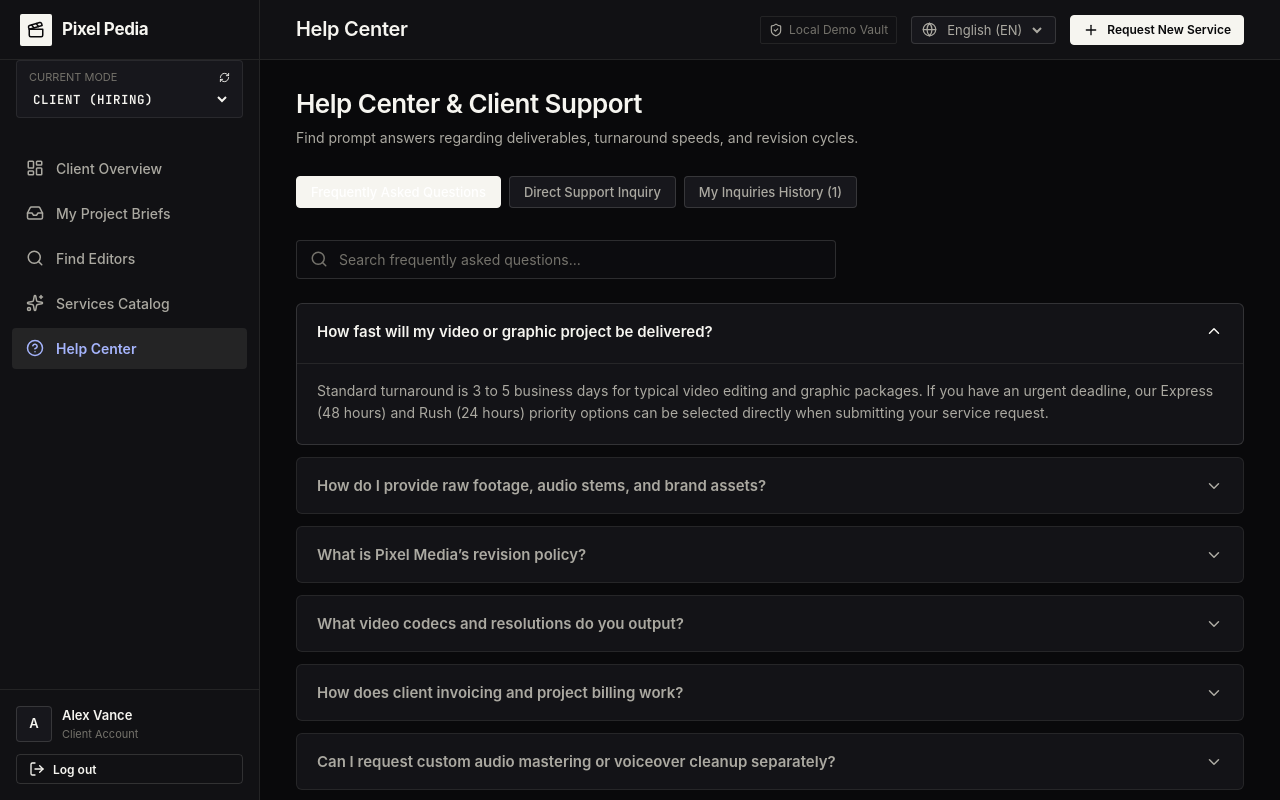
Test: Client Dashboard Features & Components › allows client to submit a support ticket in Help Center
The image size is (1280, 800).
// Switch to direct contact tab
Click the button "Direct Support Inquiry".
click(592, 192)  # box x1=509 y1=176 x2=676 y2=208
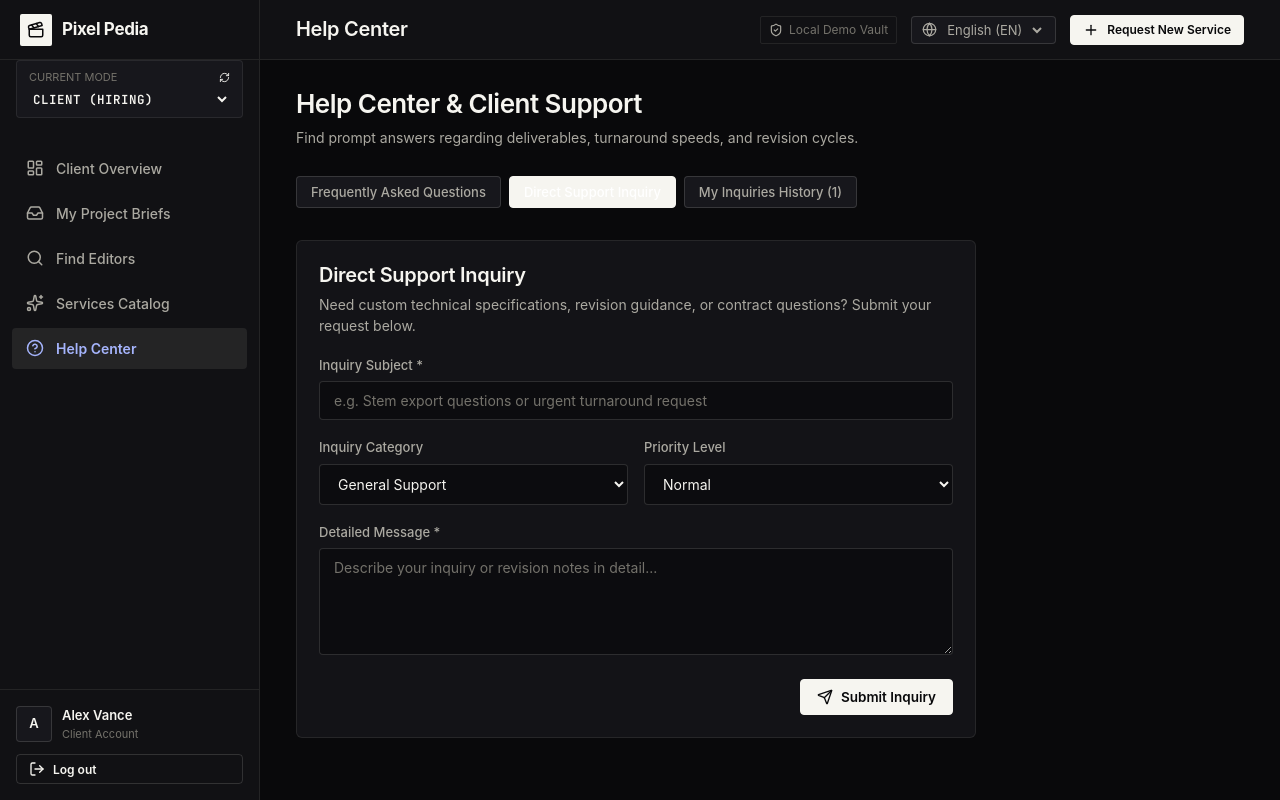
Type "Color grade revision for scene 3" into the field with placeholder "e.g. Stem export questions or urgent turnaround request".
click(636, 400); type("Color grade revision for scene 3")  # box x1=319 y1=381 x2=953 y2=420
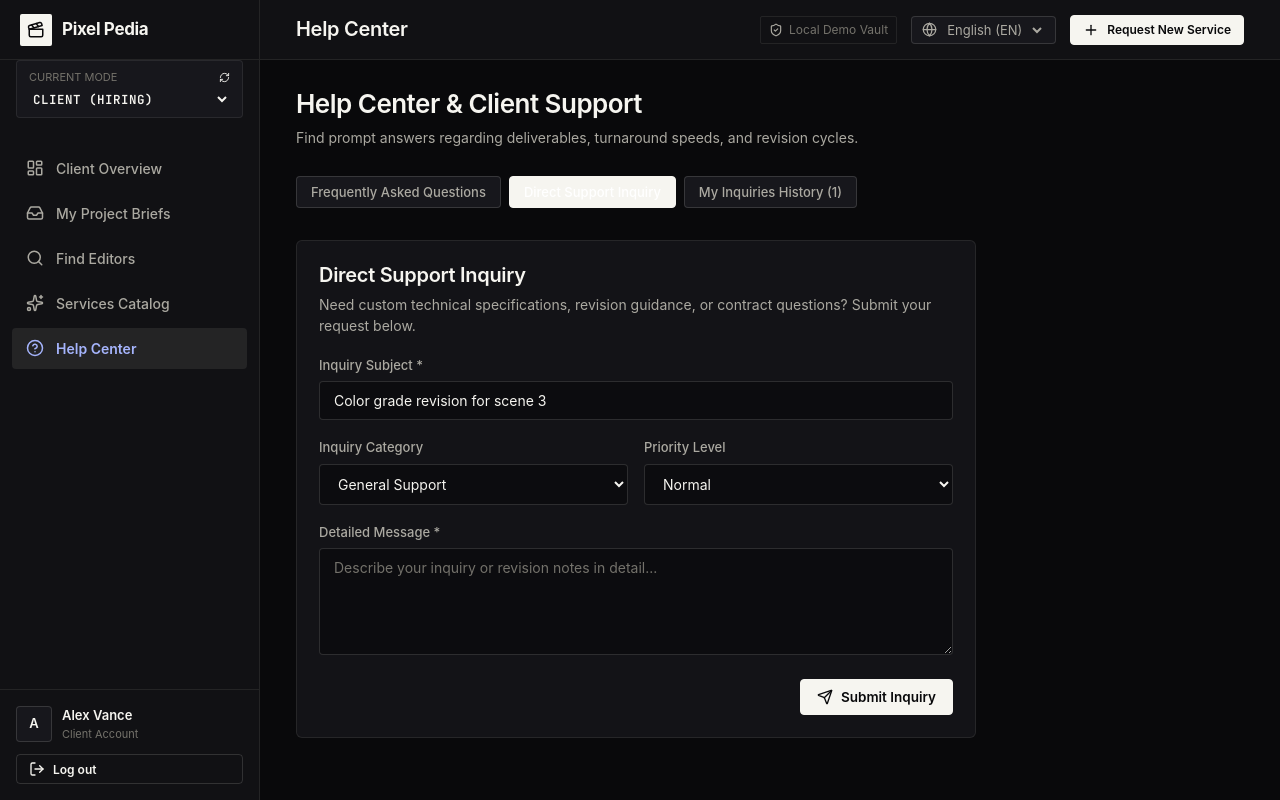
Type "Please adjust shadows and contrast in the rooftop sequence." into the text box with placeholder "Describe your inquiry or revision notes in detail...".
click(636, 602); type("Please adjust shadows and contrast in the rooftop sequence.")  # box x1=319 y1=548 x2=953 y2=655
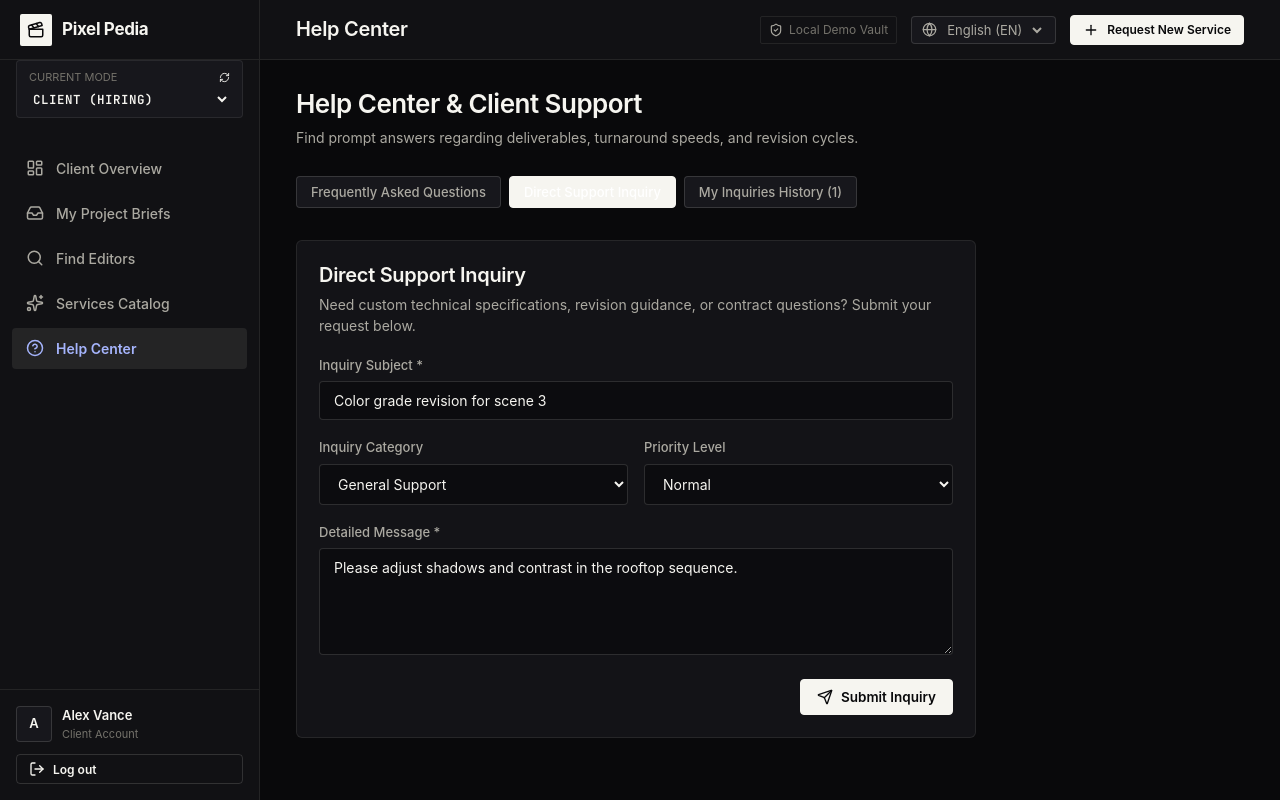
Click the button "Submit Inquiry".
click(876, 697)  # box x1=800 y1=679 x2=953 y2=715
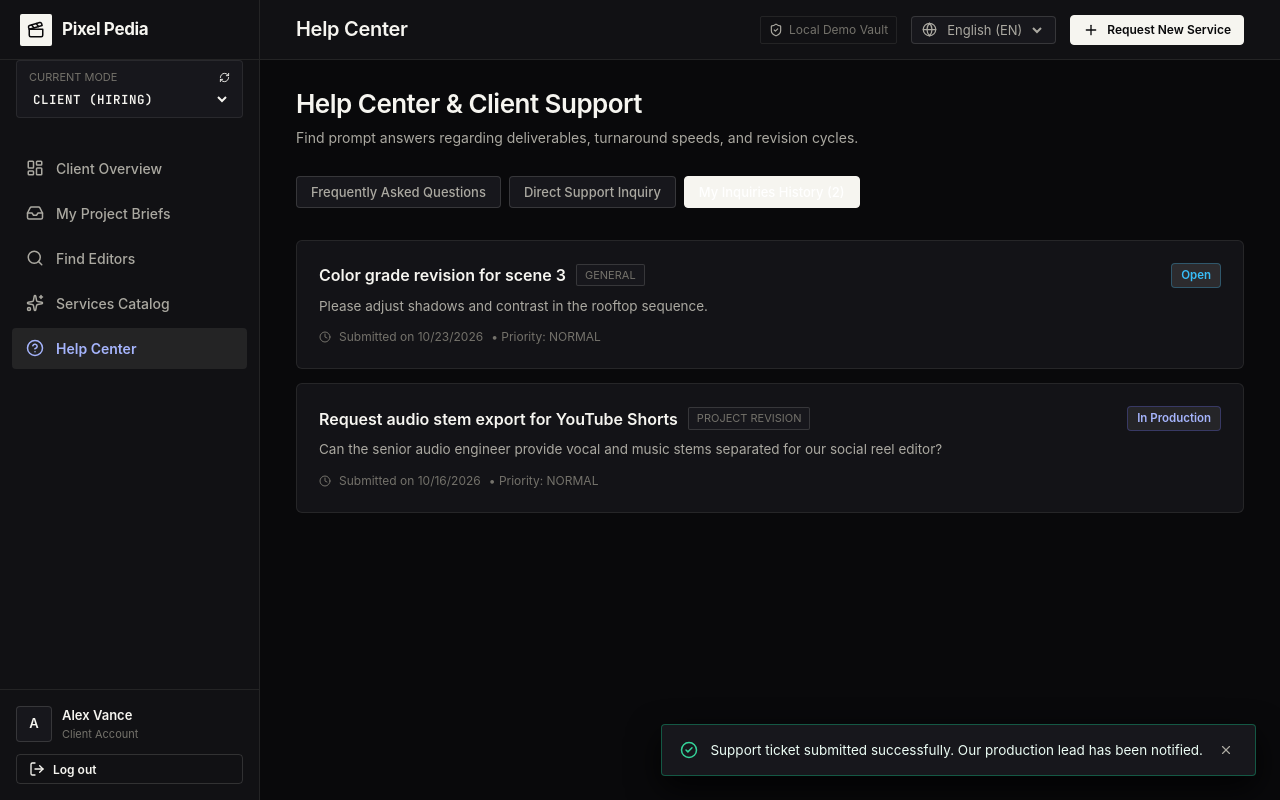
Expected: the heading "Color grade revision for scene 3" is shown, x1=319 y1=265 x2=566 y2=285
